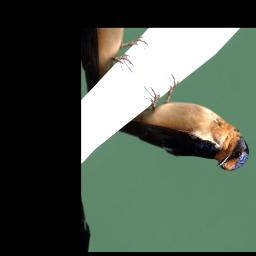Swallow: (111, 59, 256, 217)
